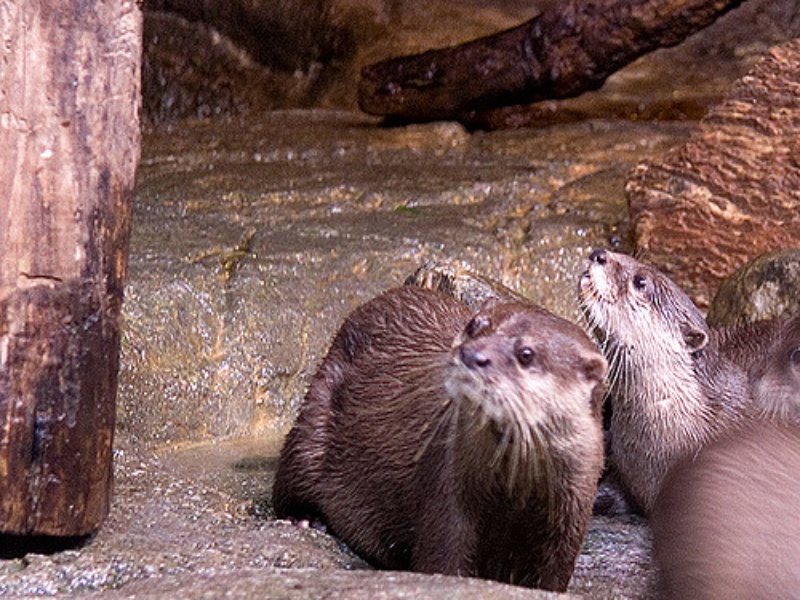minkish: (276, 283, 614, 594), (580, 237, 800, 537)
